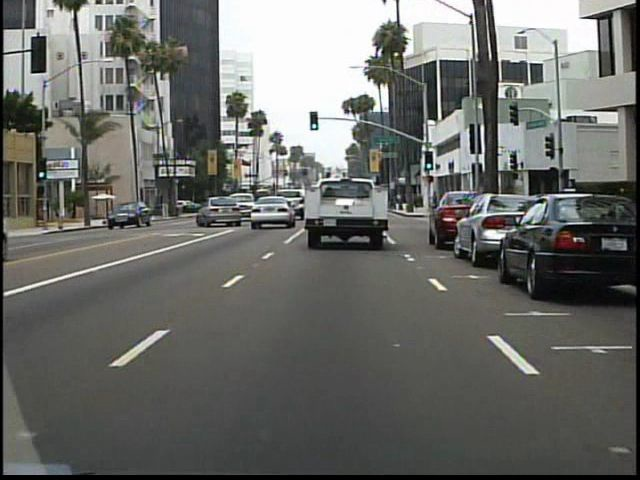person: (428, 188, 442, 217)
